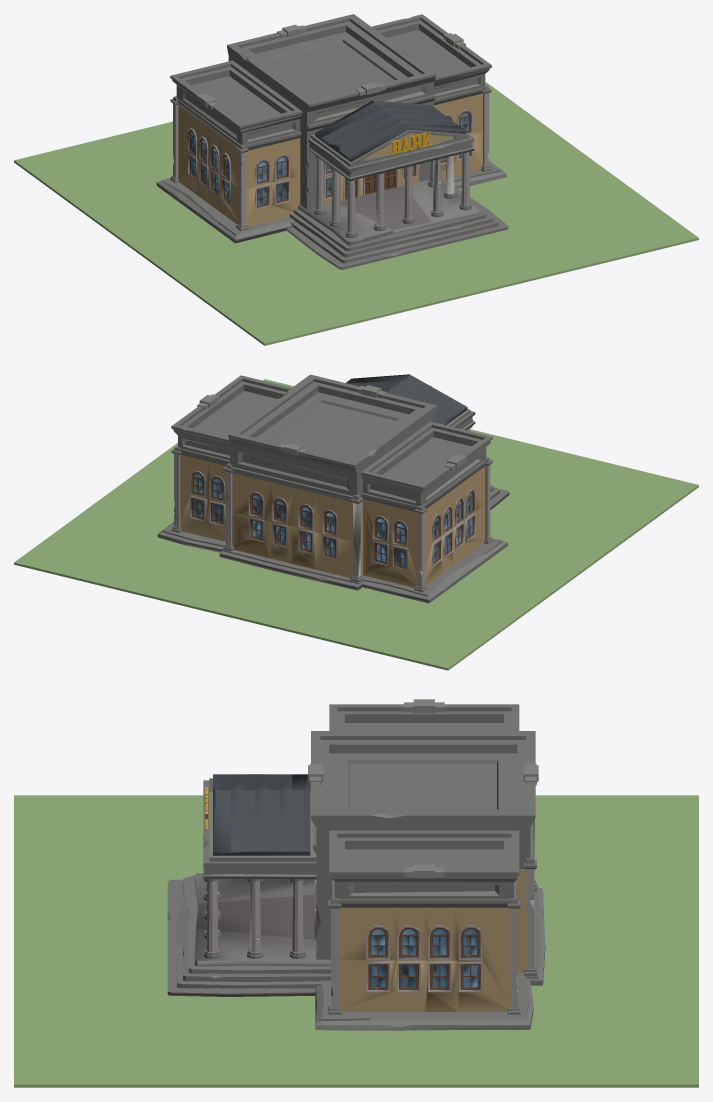
File: bank.glb
3 renders of one model, top to bottom at view 1: azimuth 30°, elevation 25°; view 2: azimuth 150°, elevation 25°; view 3: azimuth 270°, elevation 25°, orthographic. The views are drawn at different scales.
Parts seen in each view (by area): view 1: Bank, Ground; view 2: Bank, Ground; view 3: Ground, Bank.
Part boxes in pixels (bbox=[...]): Bank: bbox=[156, 14, 508, 269]; Ground: bbox=[14, 82, 698, 345]; Bank: bbox=[157, 374, 509, 603]; Ground: bbox=[14, 379, 698, 670]; Ground: bbox=[14, 795, 698, 1087]; Bank: bbox=[167, 699, 545, 1030].
Size of the model in its own units: 32 by 8.9 by 32.
3 materials, 2 textured.
